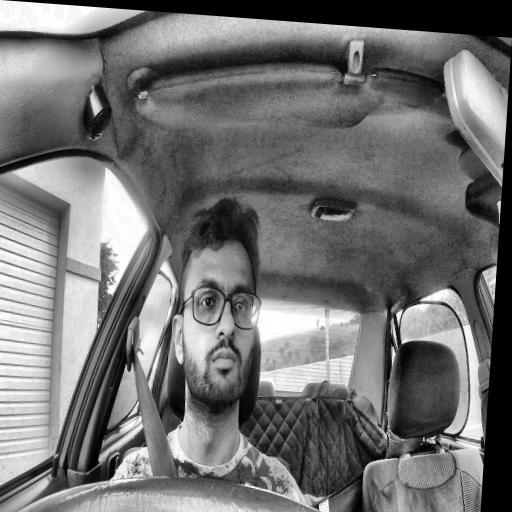awake: (166, 195, 269, 415)
